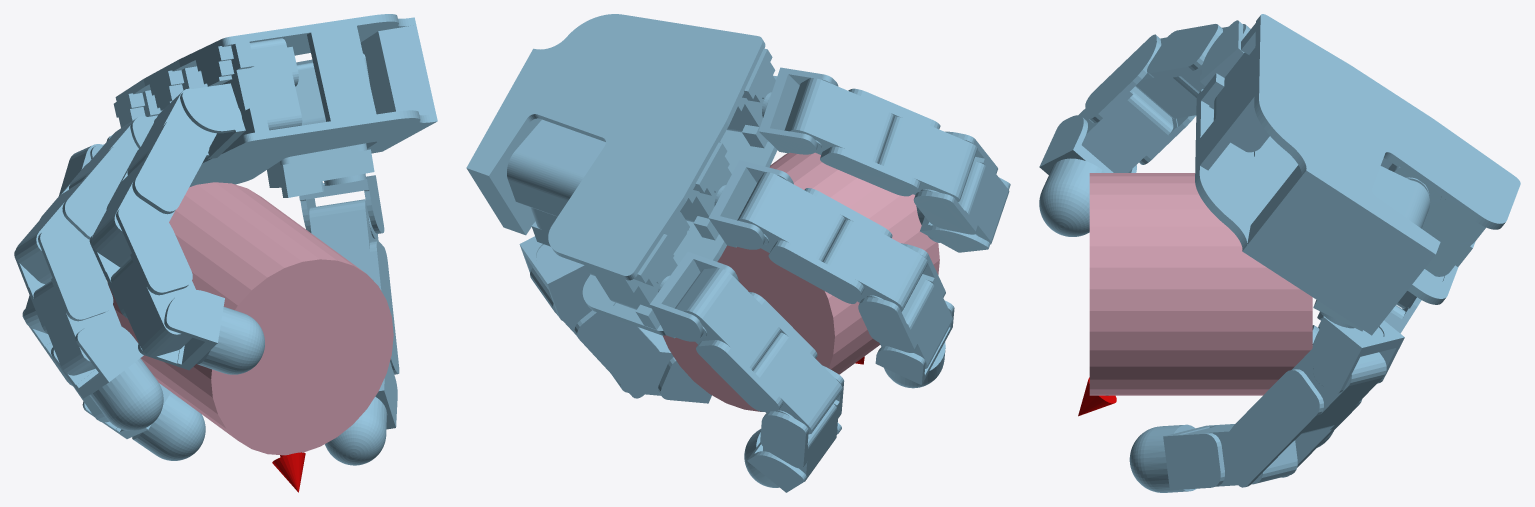
3 views of the same model, side by side, from view 1: azimuth 30°, elevation 25°; view 2: azimuth 150°, elevation 25°; view 3: azimuth 270°, elevation 25° (orthographic). The views are drawn at different scales.
Visible parts, largest first — view 1: world, cylinder_medium.stl; view 2: world, cylinder_medium.stl; view 3: world, cylinder_medium.stl.
Part boxes in pixels (x1,y1,x2,y2): world: [14, 14, 437, 492]; cylinder_medium.stl: [107, 182, 393, 455]; world: [466, 14, 1010, 492]; cylinder_medium.stl: [663, 152, 939, 411]; world: [1039, 14, 1520, 492]; cylinder_medium.stl: [1089, 173, 1312, 395].
Size of the model in its own units: 0.1722 by 0.1789 by 0.1728.
